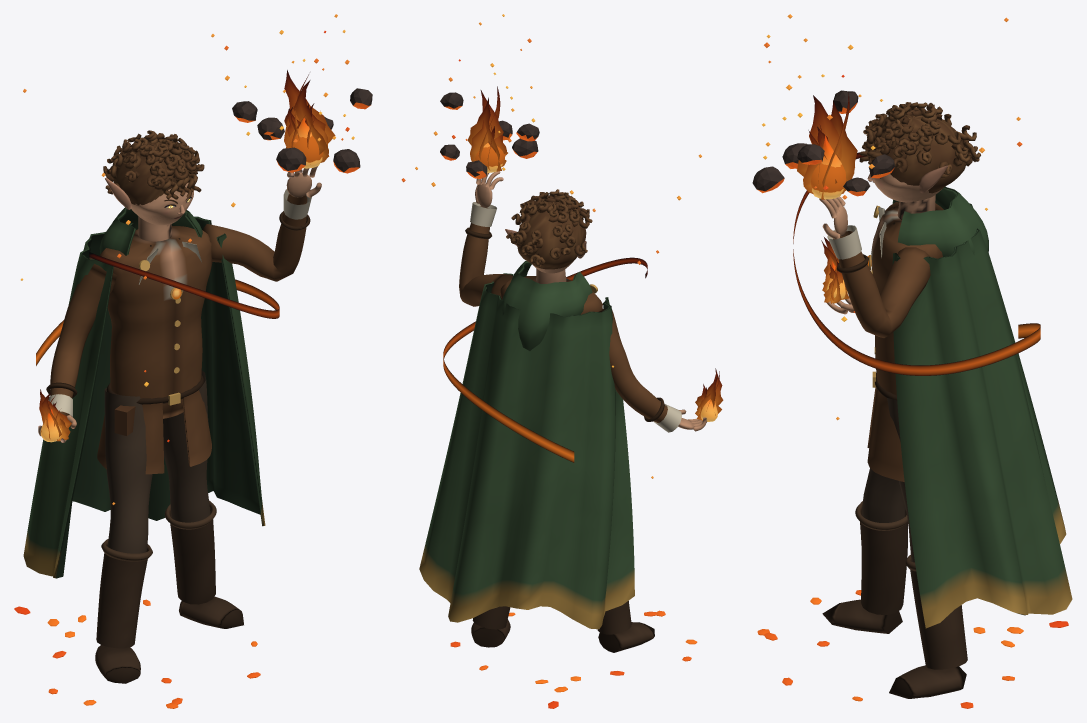
The model's file is pyre.glb.
The picture shows the model from 3 angles, left to right: view 1: azimuth 30°, elevation 25°; view 2: azimuth 150°, elevation 25°; view 3: azimuth 270°, elevation 25°; orthographic projection. The views are drawn at different scales.
Visible parts, largest first — view 1: pyre-body, pyre-fx, pyre-glow, pyre-face; view 2: pyre-body, pyre-fx, pyre-glow; view 3: pyre-body, pyre-fx, pyre-glow, pyre-face.
Boxes of the visible parts, x1,y1,x2,y2 form: pyre-body: (23, 88, 372, 683); pyre-fx: (36, 70, 335, 441); pyre-glow: (14, 14, 370, 708); pyre-face: (131, 183, 193, 225); pyre-body: (419, 92, 707, 652); pyre-fx: (443, 86, 723, 462); pyre-glow: (401, 14, 717, 708); pyre-body: (752, 90, 1072, 698); pyre-fx: (793, 91, 1040, 375); pyre-glow: (757, 14, 1068, 708); pyre-face: (873, 150, 941, 202).
Size of the model in its own units: 0.7798 by 1.48 by 0.6179.
Materials: 5 (1 with a texture image).
